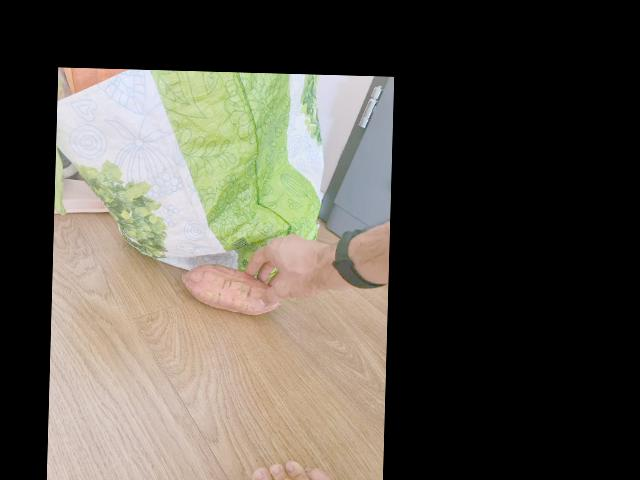sweet_potato: (178, 263, 281, 316)
